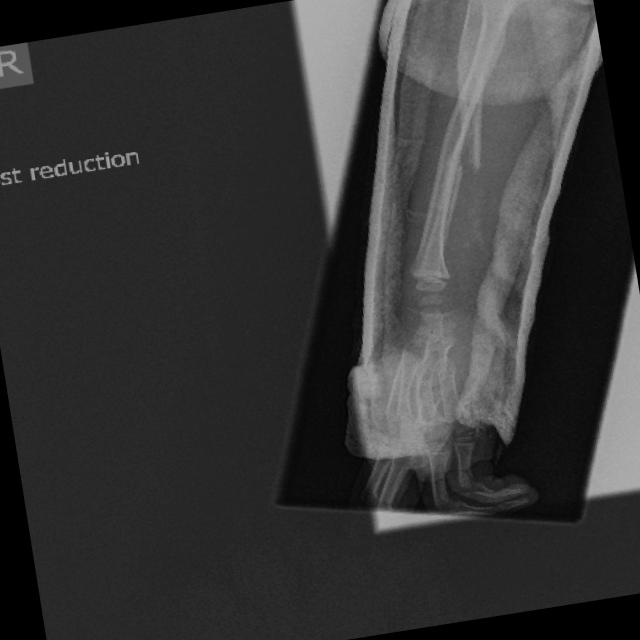forearm fracture: (418, 101, 519, 228)
